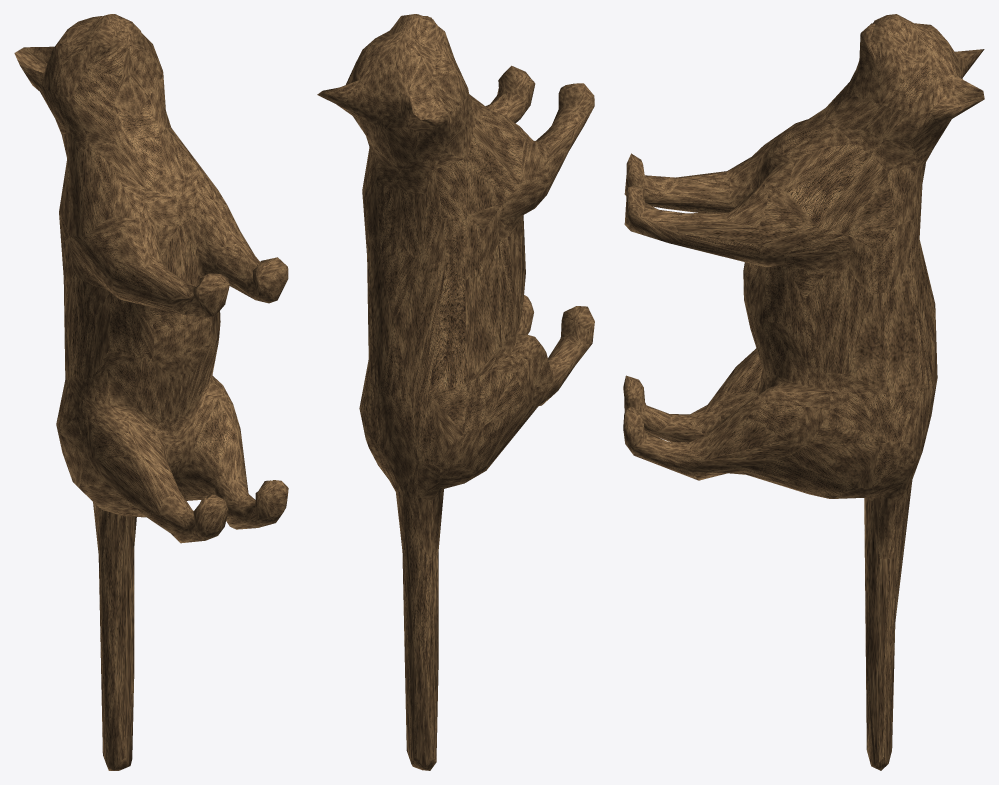
File: Object_CatObject.dae
3 views of the same model, side by side, from view 1: azimuth 30°, elevation 25°; view 2: azimuth 150°, elevation 25°; view 3: azimuth 270°, elevation 25° (orthographic).
Parts seen in each view (by area): view 1: CatMesh; view 2: CatMesh; view 3: CatMesh.
Boxes of the visible parts, left/top/right/bottom form: CatMesh: left=14, top=14, right=288, bottom=770; CatMesh: left=317, top=14, right=594, bottom=770; CatMesh: left=623, top=14, right=984, bottom=770.
Size of the model in its own units: 28.53 by 152 by 66.2.
Materials: 1 (1 with a texture image).
